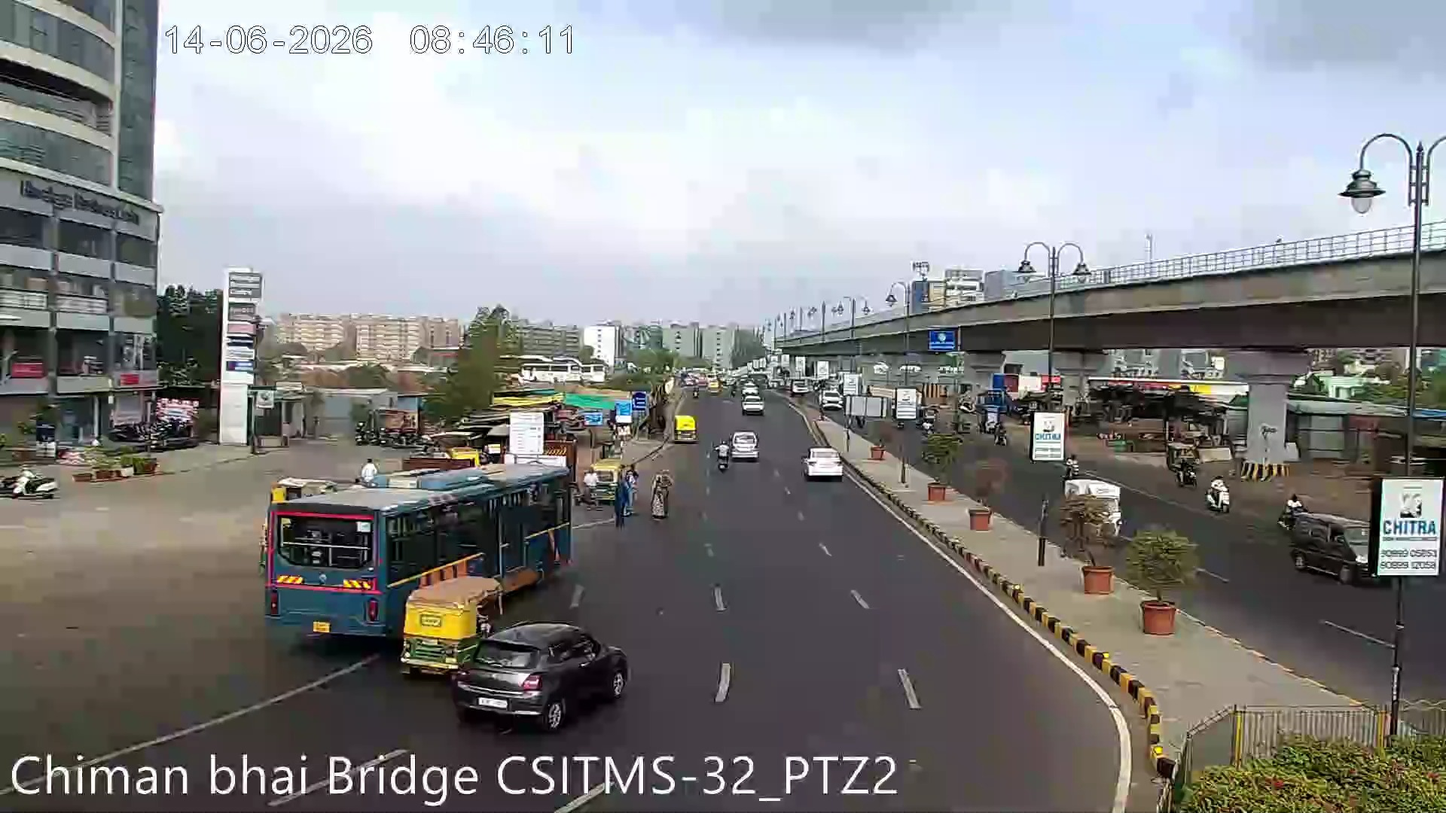auto_rickshaw: (399, 595, 487, 672), (582, 457, 635, 501), (674, 412, 699, 443)
bus: (247, 469, 583, 627)
car: (449, 616, 632, 725), (802, 444, 845, 480), (729, 425, 763, 461), (740, 389, 766, 415)
pedestrian: (648, 469, 674, 521), (618, 462, 638, 519)
two_wheeler: (1203, 471, 1234, 515)
van: (1286, 514, 1369, 583)
